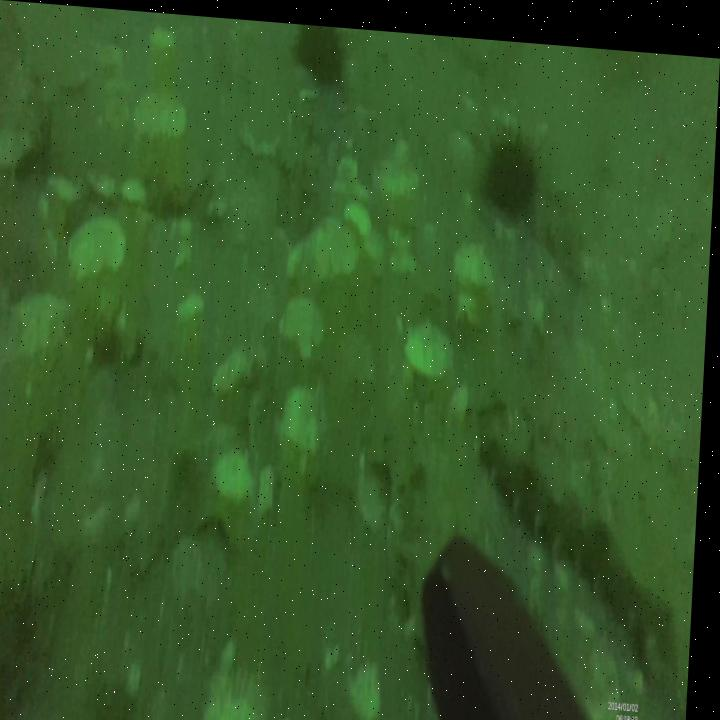echinus: (482, 113, 544, 210), (295, 21, 348, 86)
holothurian: (472, 411, 695, 677)
scallop: (209, 660, 279, 720), (70, 214, 128, 284), (409, 309, 456, 376)
